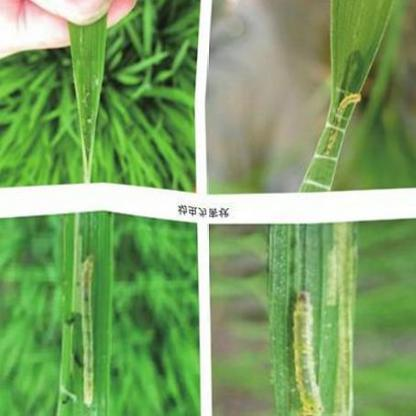leaf-folder: (288, 286, 338, 416), (78, 248, 106, 412), (316, 82, 364, 162)
